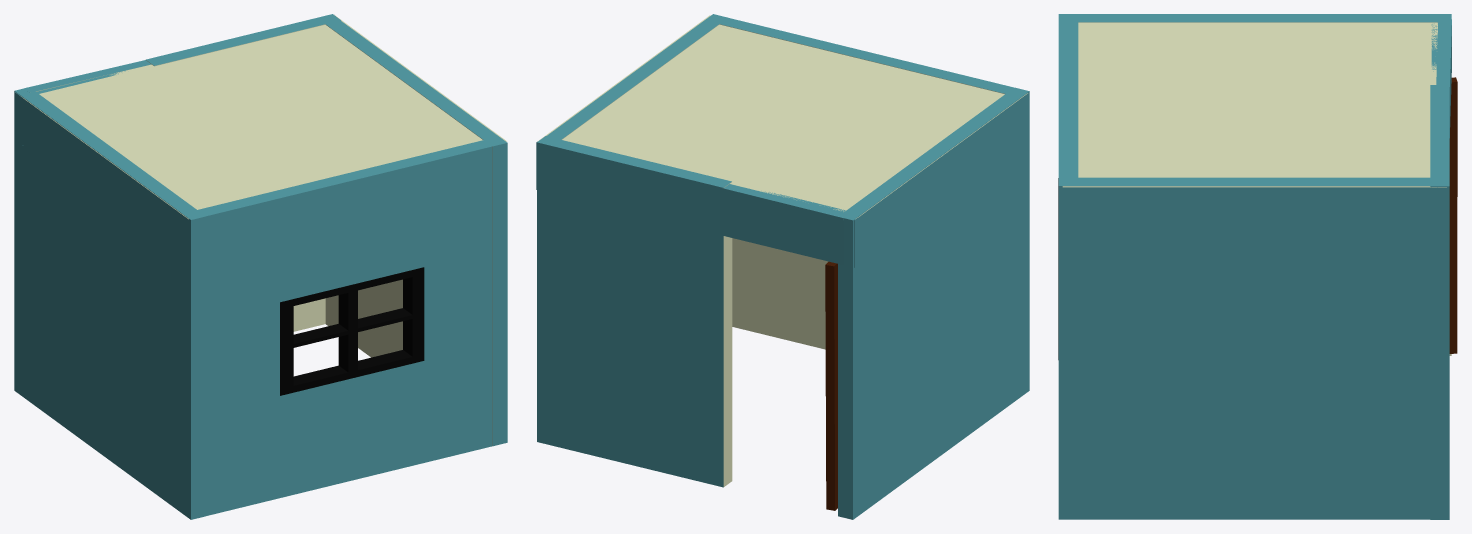
Rendered from world.dae.
3 renders of one model, left to right at view 1: azimuth 30°, elevation 25°; view 2: azimuth 150°, elevation 25°; view 3: azimuth 270°, elevation 25°, orthographic. The views are drawn at different scales.
Parts seen in each view (by area): view 1: Justawall.001, Justawall.002, Cube; view 2: Justawall.001, Justawall.002, Door; view 3: Justawall.001, Justawall.002, Door.
Part boxes in pixels (bbox=[...]): Justawall.001: bbox=[14, 14, 507, 519]; Justawall.002: bbox=[21, 15, 506, 445]; Cube: bbox=[280, 267, 424, 395]; Justawall.001: bbox=[536, 14, 1029, 519]; Justawall.002: bbox=[537, 15, 1027, 486]; Door: bbox=[825, 261, 837, 510]; Justawall.001: bbox=[1058, 14, 1451, 519]; Justawall.002: bbox=[1062, 22, 1451, 355]; Door: bbox=[1449, 77, 1457, 353].
Size of what is drawn, in the model's own units: 3.33 by 3.25 by 3.
